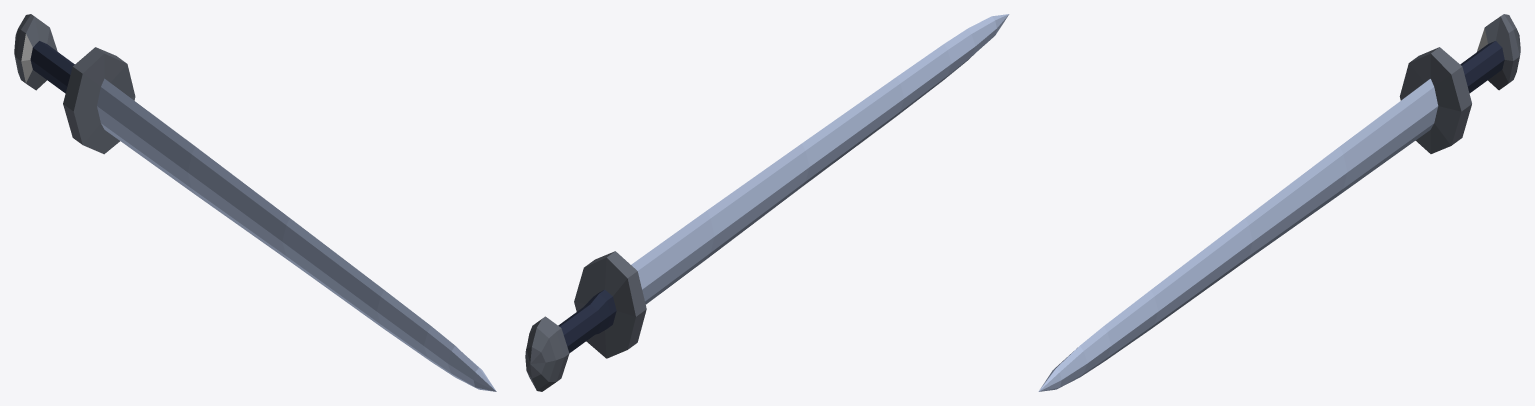
File: NewSword.fbx
3 views of the same model, side by side, from view 1: azimuth 30°, elevation 25°; view 2: azimuth 150°, elevation 25°; view 3: azimuth 330°, elevation 25° (orthographic).
Visible parts, largest first — view 1: pCylinder3; view 2: pCylinder3; view 3: pCylinder3.
Part boxes in pixels (x1,y1,x2,y2): pCylinder3: (14, 14, 496, 391); pCylinder3: (525, 14, 1009, 391); pCylinder3: (1038, 14, 1520, 391).
Bounding box in the file's own units: 1.51 × 2.36 × 20.21.
